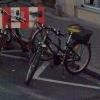bicycles: (23, 20, 94, 88)
